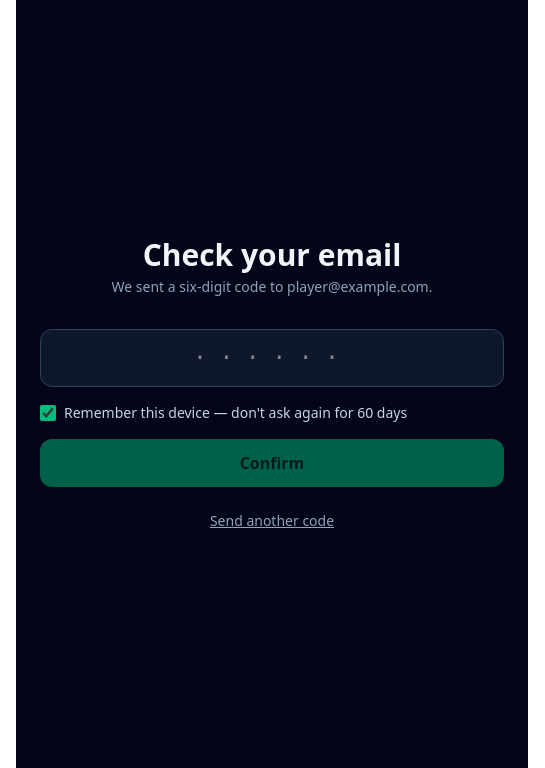
VerifyCodeForm › confirms a fresh code was requested
What coordinates should you click on to do the following:
click the button "Send another code"
I would click on:
 (272, 521)
Its box is [40,511,504,531].
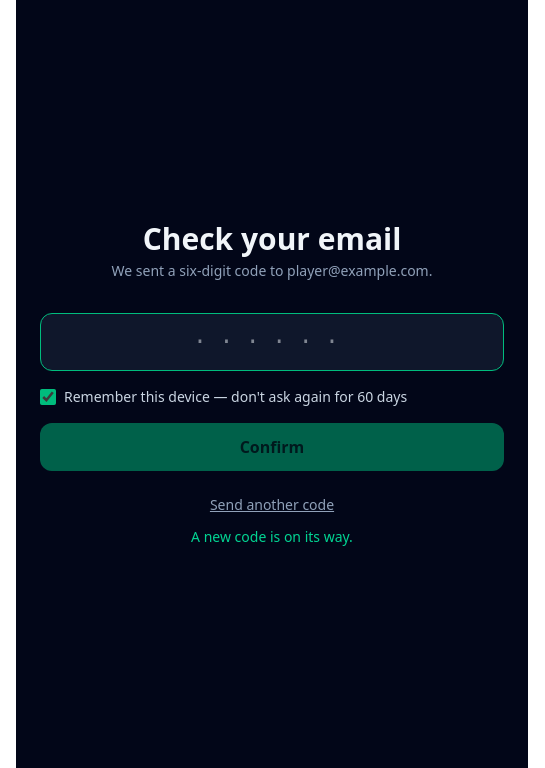
Now the text "A new code is on its way." is shown, box [191,527,353,546]
